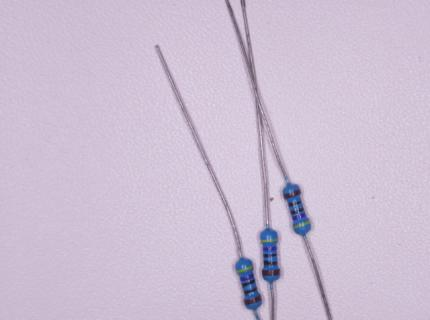Violet band: (292, 211, 306, 221), (241, 273, 253, 281), (262, 246, 277, 251)
Yellow band: (236, 265, 253, 273), (294, 220, 310, 228), (261, 239, 278, 242)
